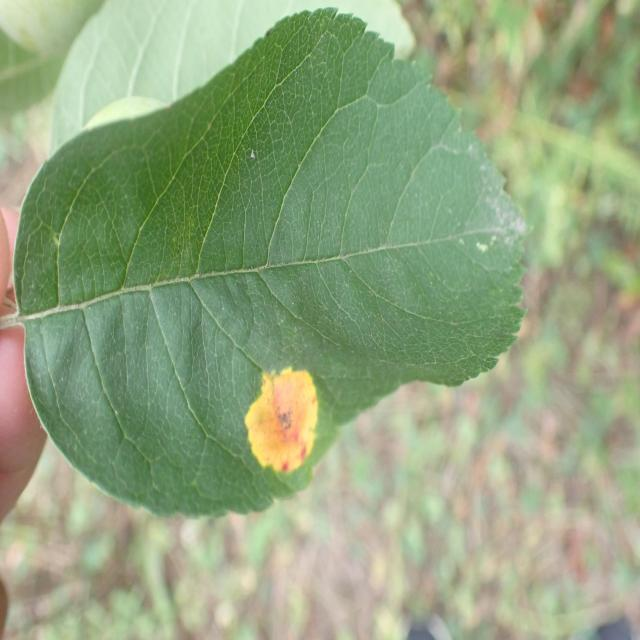Rust: (237, 348, 323, 484)
